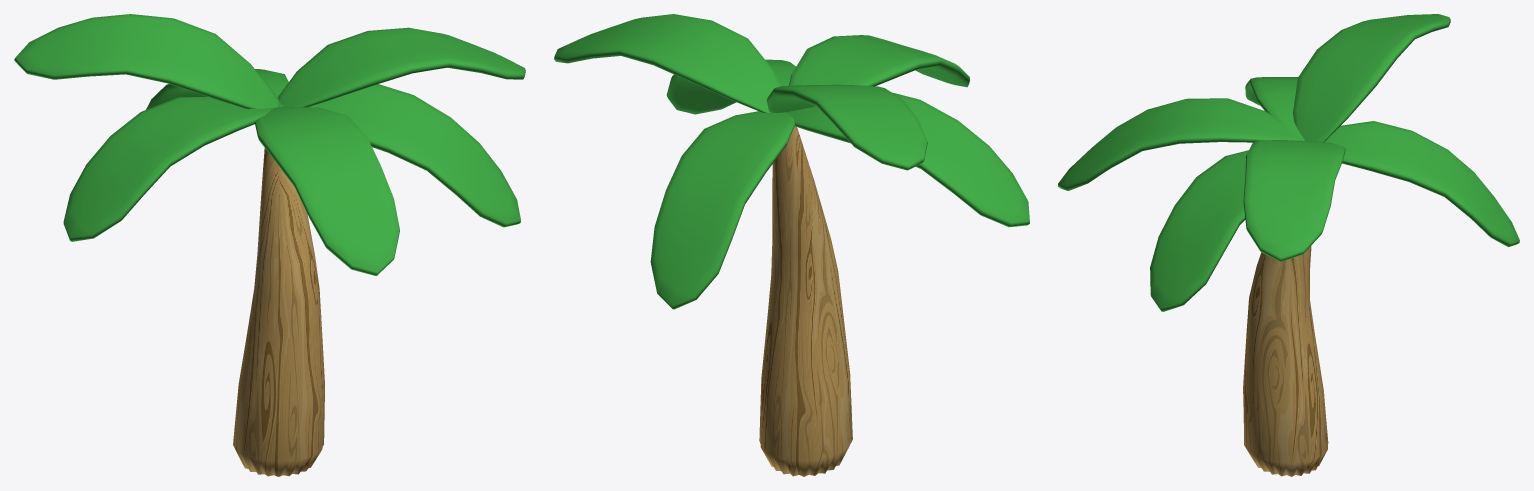
Rendered from arvore 2.fbx.
3 renders of one model, left to right at view 1: azimuth 30°, elevation 25°; view 2: azimuth 150°, elevation 25°; view 3: azimuth 270°, elevation 25°, orthographic. The views are drawn at different scales.
Visible parts, largest first — view 1: polySurface13; view 2: polySurface13; view 3: polySurface13.
Part boxes in pixels (<box>): polySurface13: <box>14,14,525,476</box>; polySurface13: <box>554,14,1029,476</box>; polySurface13: <box>1058,14,1519,476</box>.
Size of the model in its own units: 10 by 8.81 by 9.36.
Materials: 2 (1 with a texture image).
